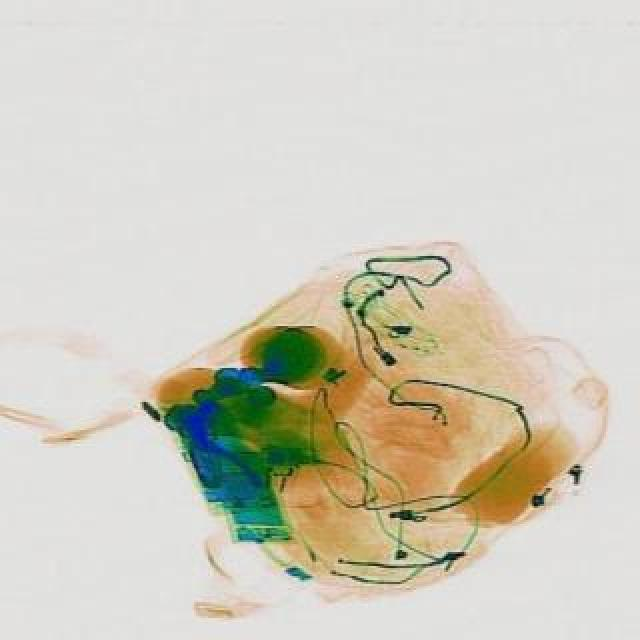wrench: (166, 406, 262, 510)
